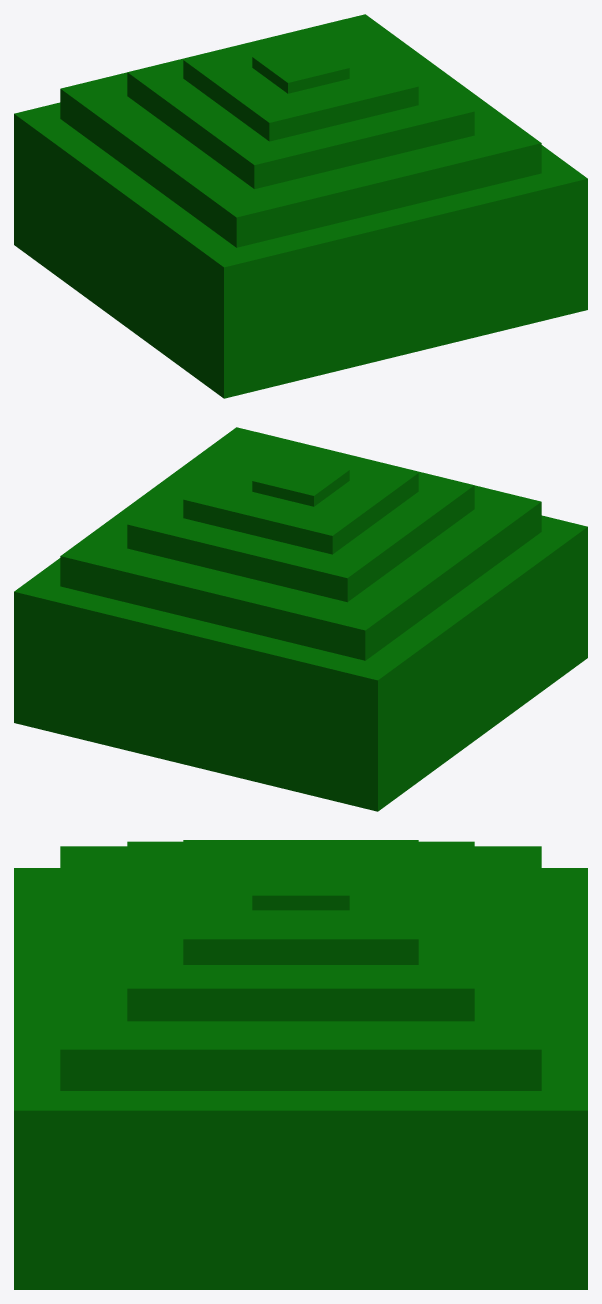
File: Bush1.fbx
3 renders of one model, top to bottom at view 1: azimuth 30°, elevation 25°; view 2: azimuth 150°, elevation 25°; view 3: azimuth 270°, elevation 25°, orthographic. The views are drawn at different scales.
Visible parts, largest first — view 1: pCube1; view 2: pCube1; view 3: pCube1.
Boxes of the visible parts, <box> form: pCube1: <box>14,14,587,398</box>; pCube1: <box>14,427,587,811</box>; pCube1: <box>14,840,587,1289</box>.
Size of the model in its own units: 5.9 by 4.33 by 5.9.
